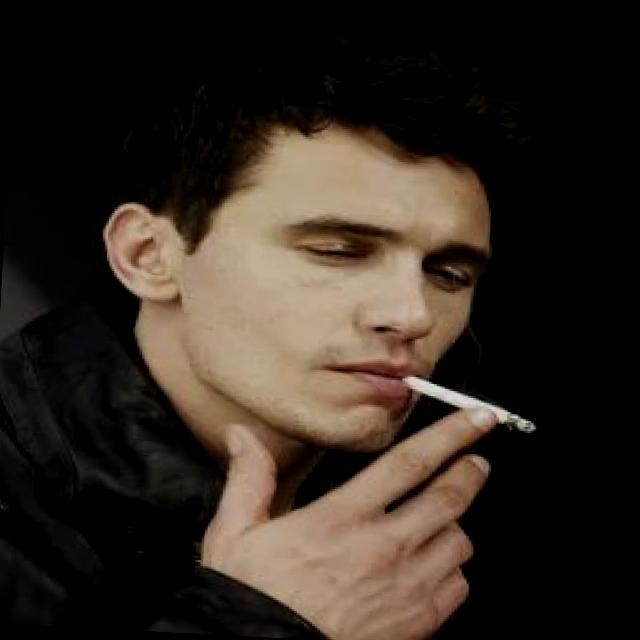smoke: (397, 377, 554, 442)
